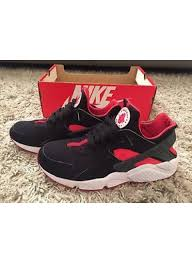Air Huarache Bred: (41, 101, 181, 194), (8, 85, 138, 153)
